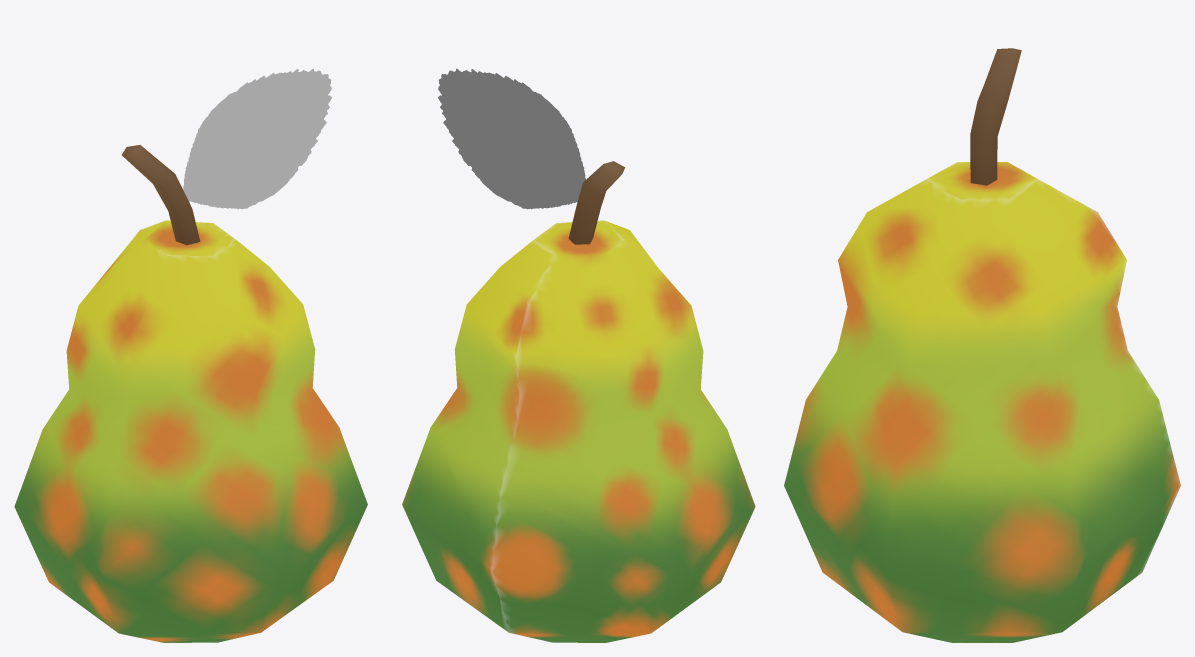
The model's file is Pear.fbx.
3 views of the same model, side by side, from view 1: azimuth 30°, elevation 25°; view 2: azimuth 150°, elevation 25°; view 3: azimuth 270°, elevation 25° (orthographic). The views are drawn at different scales.
Parts seen in each view (by area): view 1: Pear LOD0; view 2: Pear LOD0; view 3: Pear LOD0.
Part boxes in pixels (x1=…): Pear LOD0: x1=14, y1=68, x2=367, y2=642; Pear LOD0: x1=402, y1=68, x2=755, y2=642; Pear LOD0: x1=784, y1=48, x2=1180, y2=642.
Size of what is drawn, in the model's own units: 1.16 by 2.15 by 1.2.
